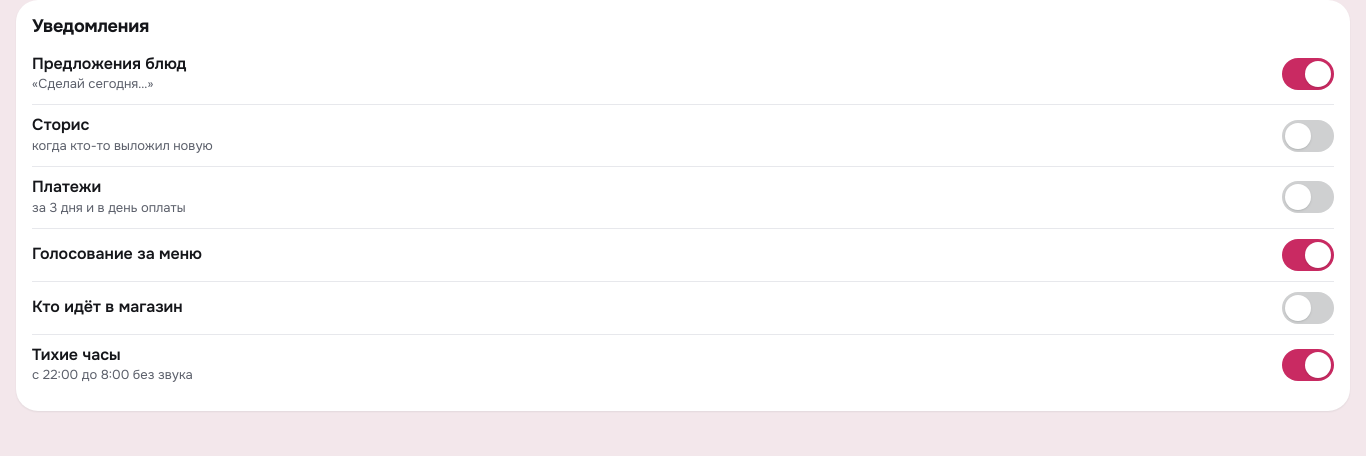
Test: NotifyCard › puts the switch back and says so when the change could not be saved
Click the switch named "Предложения блюд" at (1308,74), box [1282, 58, 1334, 90]
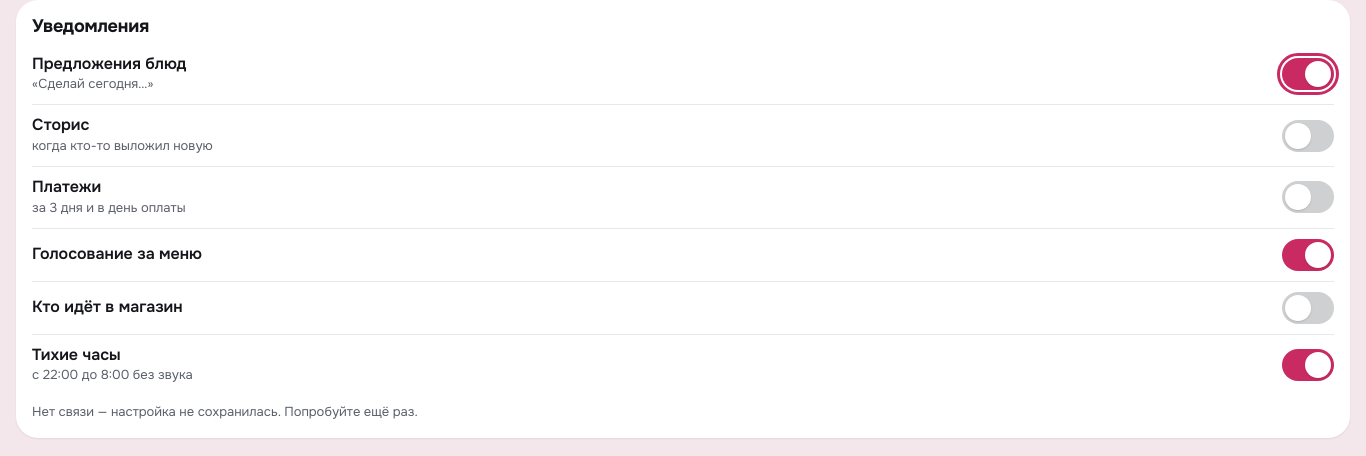
Expected: the message reads "Нет связи — настройка не сохранилась. Попробуйте ещё раз.", [32, 403, 418, 420]
